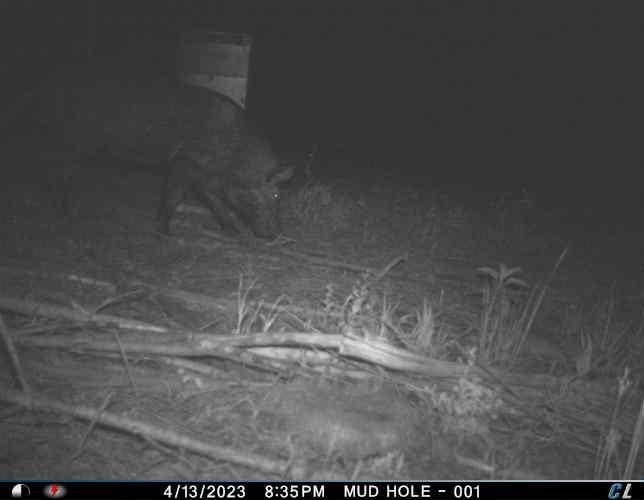Hog: (40, 62, 296, 244)
